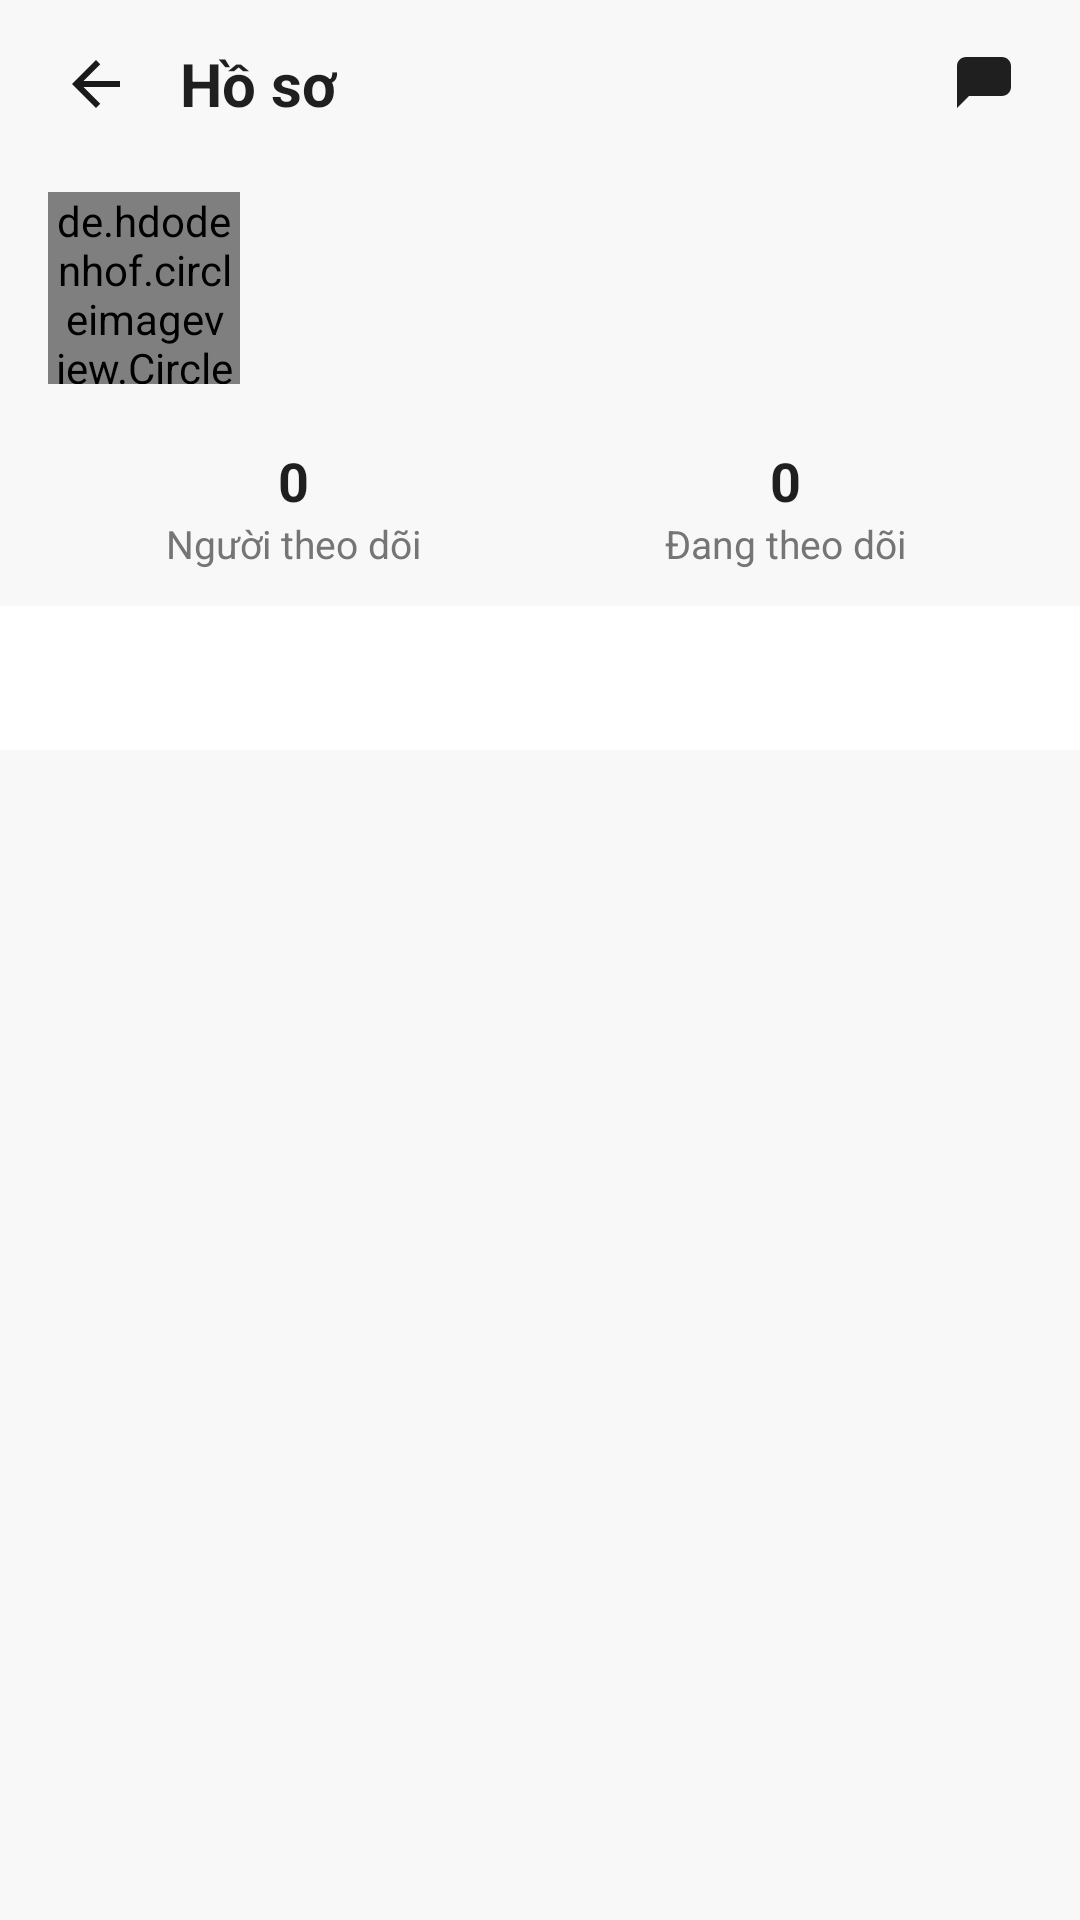

Icon bounding boxes for this 1080px×1920px phone screenshot, format [x1, y1, x2, y2]:
Nhắn tin: [957, 57, 1011, 108]
Quay lại: [72, 60, 120, 108]
